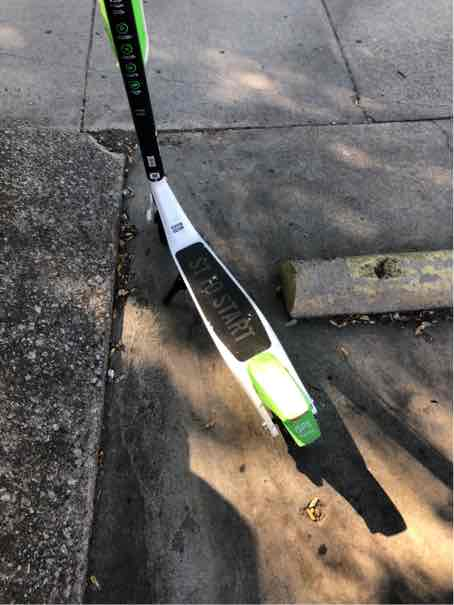scooter: (0, 10, 339, 510)
